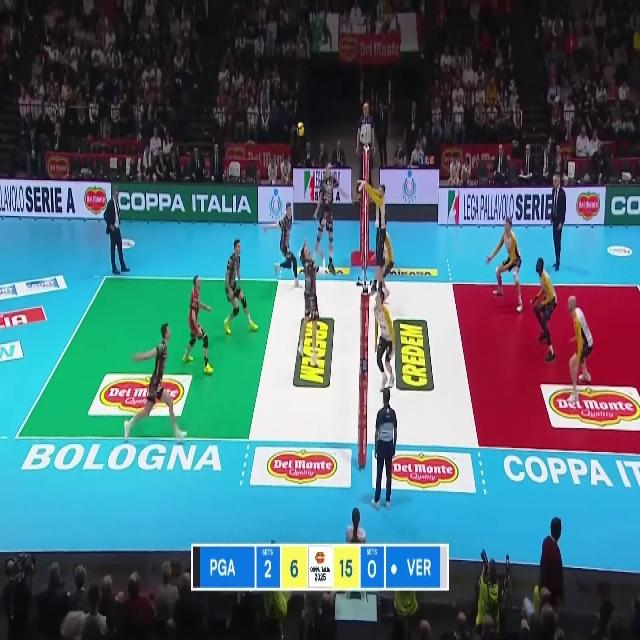volleyball court: (13, 275, 640, 453)
